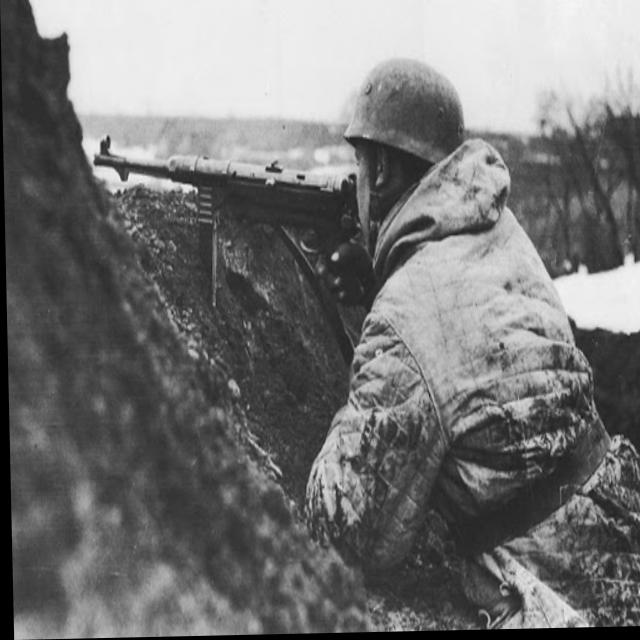other: (289, 52, 640, 634)
